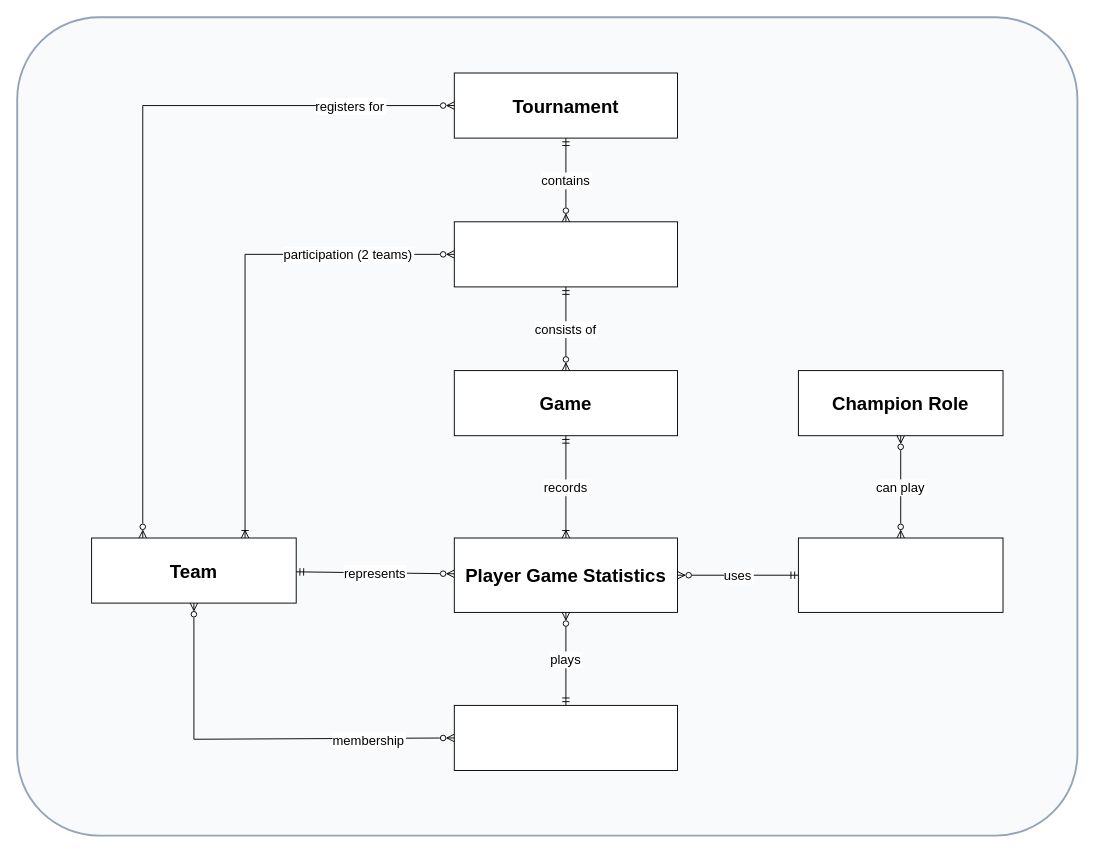
Image size: 1094x852. Some labels were removed from this diagram. Each missing label, with the centre of its shape:
Champion: (900,574)
Match: (565,254)
Player: (565,737)
